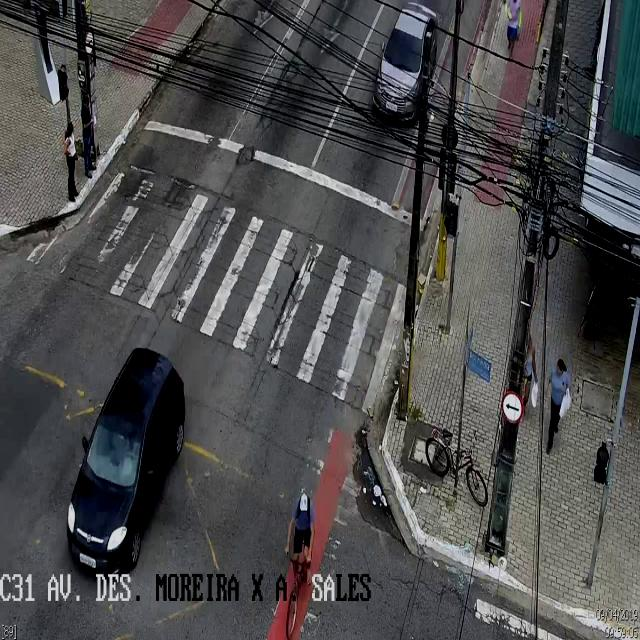Car: (67, 349, 185, 579), (373, 0, 441, 129)
